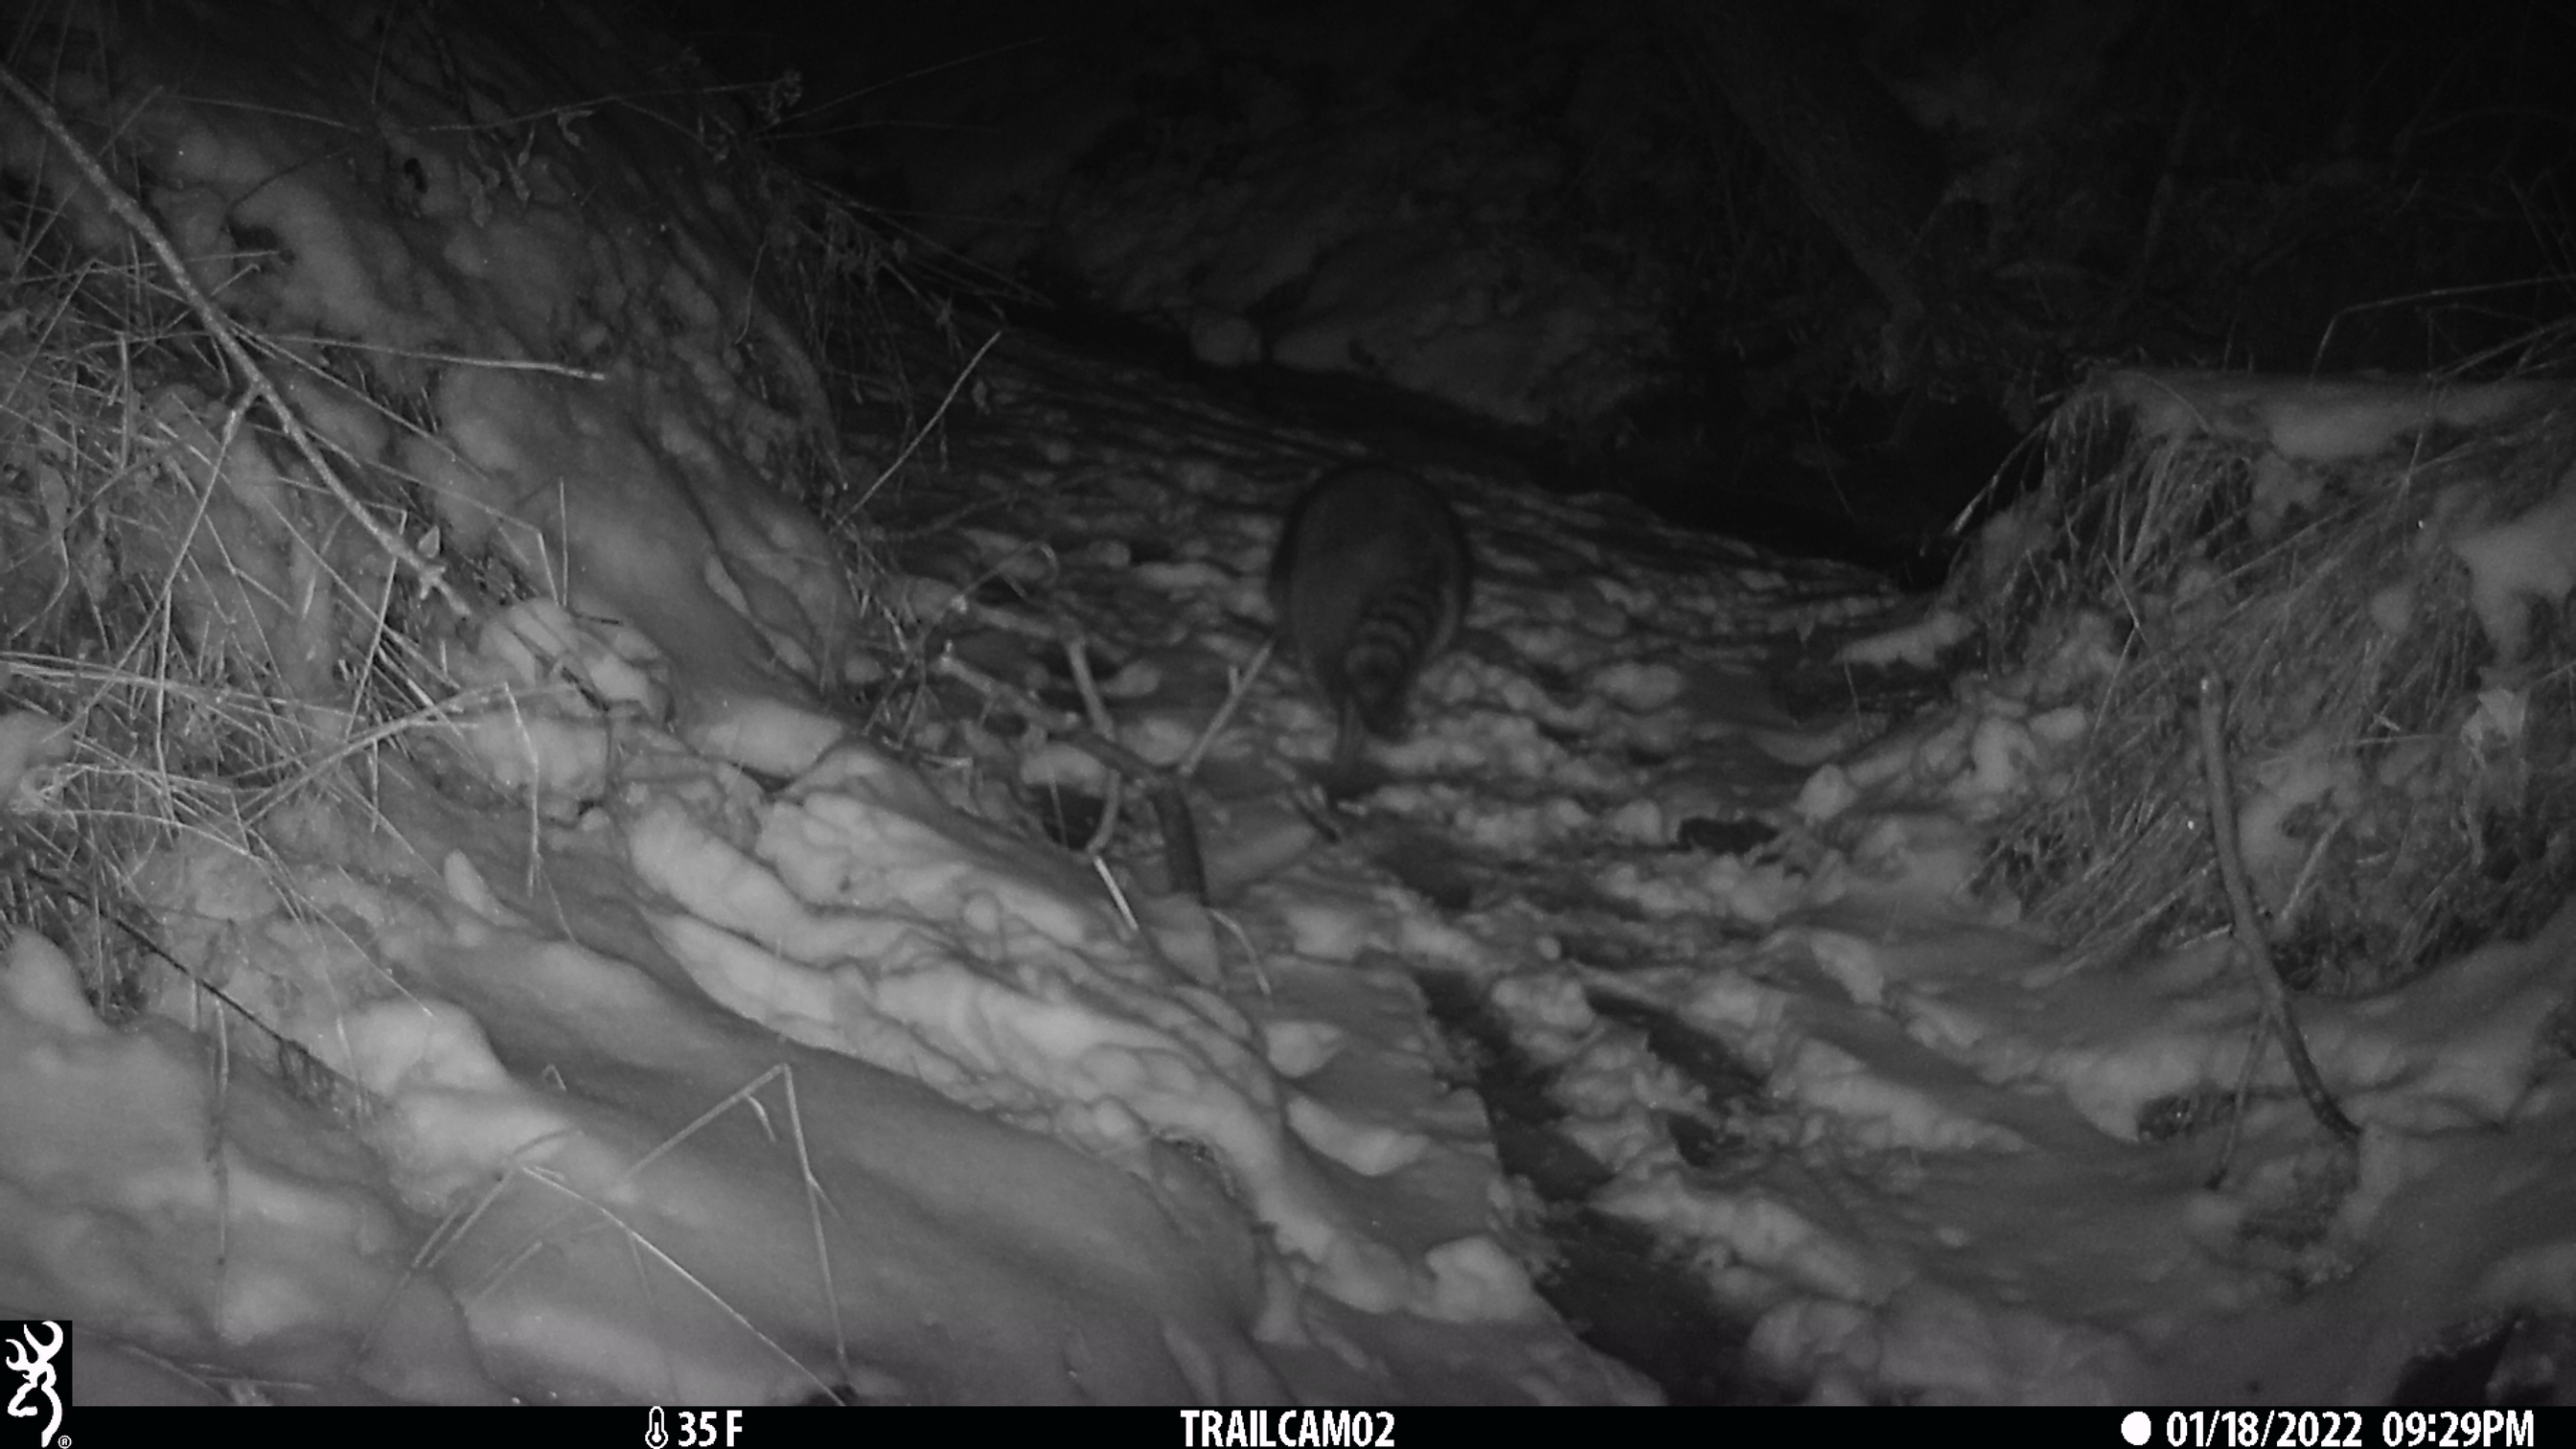Raccoon: (1269, 451, 1468, 704)
